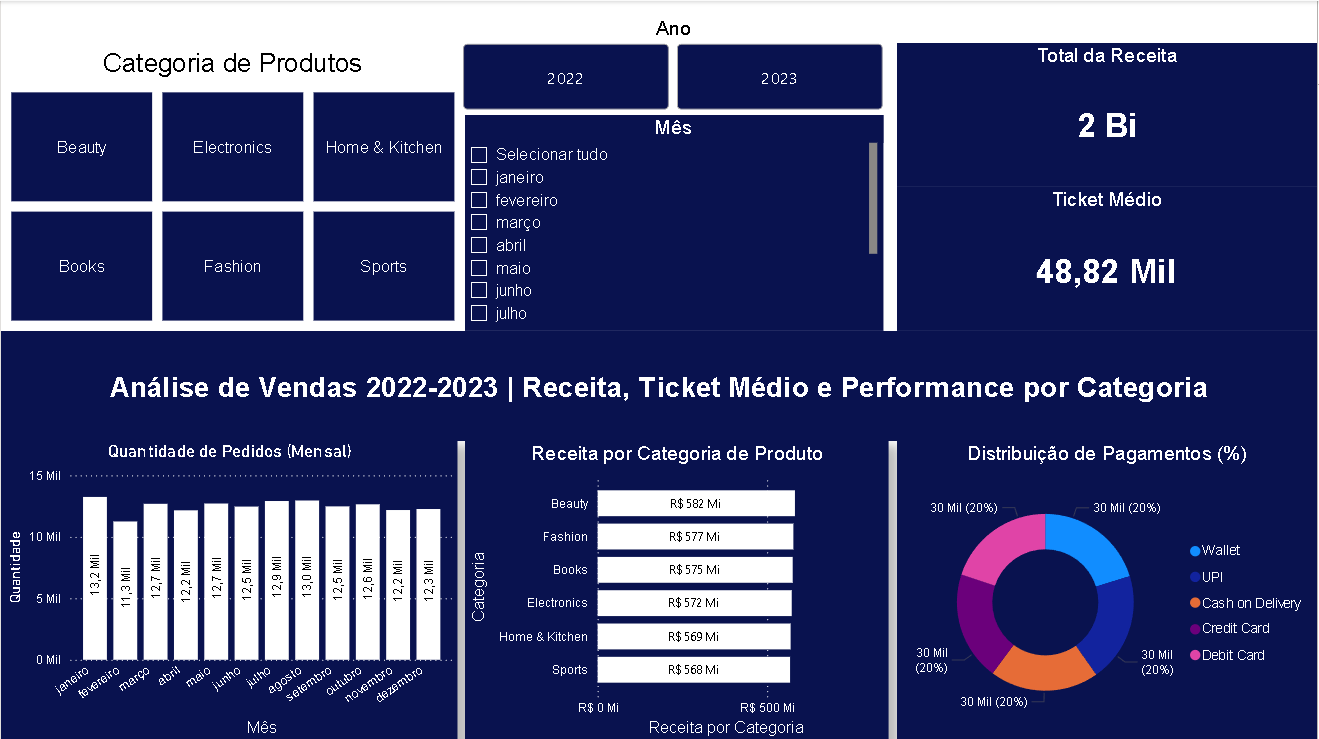

Layout of this report page (visuals, bound fields, positions):
{"tool":"powerbi","page":{"name":"Página 1","canvas":[1280,720],"ordinal":0},"visuals":[{"type":"advancedSlicerVisual","title":"Categoria de Produtos","fields":{"Values":["amazon_sales_dataset.product_category"]},"box":[0,40.9,451.3,280.1],"z":0},{"type":"columnChart","title":"Quantidade de Pedidos (Mensal)","fields":{"Y":["Sum(amazon_sales_dataset.Quantidade Vendida)"],"Category":["amazon_sales_dataset.order_date.Variation.Hierarquia de datas.Mês"]},"box":[0,428,444.5,291.8],"z":1000},{"type":"card","title":"Total da Receita","fields":{"Values":["Sum(amazon_sales_dataset.total_revenue)"]},"box":[871.5,40.9,408.5,140.1],"z":2000},{"type":"advancedSlicerVisual","fields":{"Values":["amazon_sales_dataset.order_date.Variation.Hierarquia de datas.Ano"]},"box":[444.5,14.6,419.2,96.3],"z":3000},{"type":"barChart","title":"Receita por Categoria de Produto","fields":{"Category":["amazon_sales_dataset.Categoria do Produto"],"Y":["Sum(amazon_sales_dataset.Receita por Linha)"]},"box":[451.3,428,412.4,291.8],"z":4000},{"type":"cardVisual","title":"Ticket Médio","fields":{"Data":["amazon_sales_dataset.Ticket Médio"]},"box":[871.5,180.9,408.5,140.1],"z":5000},{"type":"donutChart","title":"Distribuição de Pagamentos (%)","fields":{"Category":["amazon_sales_dataset.payment_method"],"Y":["Sum(amazon_sales_dataset.Quantidade Vendida)"]},"box":[871.5,428,408.5,291.8],"z":6000},{"type":"listSlicer","fields":{"Values":["amazon_sales_dataset.Data do Pedido.Variation.Hierarquia de datas.Mês"]},"box":[451.3,110.9,406.6,210.1],"z":7000},{"type":"textbox","box":[0,321,1280,107],"z":8000}]}

Visuals, with their boxes in screenshot pixels (x1, y1, x2, y2), scaled from the page's 1280x720 canvas onto the 1319x739 screenshot:
"Categoria de Produtos" advancedSlicerVisual: 0/42/465/329
"Quantidade de Pedidos (Mensal)" columnChart: 0/439/458/738
"Total da Receita" card: 898/42/1318/186
advancedSlicerVisual - amazon_sales_dataset.order_date.Variation.Hierarquia de datas.Ano: 458/15/890/114
"Receita por Categoria de Produto" barChart: 465/439/890/738
"Ticket Médio" cardVisual: 898/186/1318/329
"Distribuição de Pagamentos (%)" donutChart: 898/439/1318/738
listSlicer - amazon_sales_dataset.Data do Pedido.Variation.Hierarquia de datas.Mês: 465/114/884/329
textbox: 0/329/1318/439
